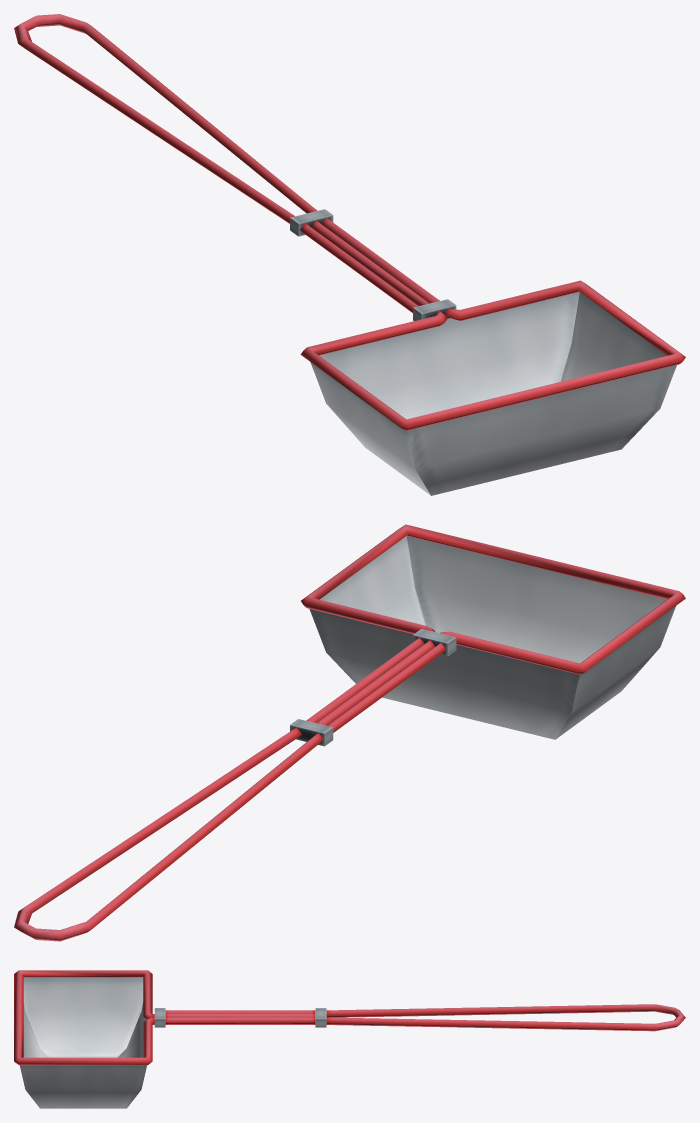
Rendered from jsf_ScoopNet_02a.fbx.
The picture shows the model from 3 angles, top to bottom: view 1: azimuth 30°, elevation 25°; view 2: azimuth 150°, elevation 25°; view 3: azimuth 270°, elevation 25°; orthographic projection. The views are drawn at different scales.
Parts seen in each view (by area): view 1: jsf_ScoopNet_02a; view 2: jsf_ScoopNet_02a; view 3: jsf_ScoopNet_02a.
Part boxes in pixels (x1,y1,x2,y2): jsf_ScoopNet_02a: (14,14,685,495); jsf_ScoopNet_02a: (14,524,685,941); jsf_ScoopNet_02a: (14,970,685,1108).
Bounding box in the file's own units: 8.37 × 3.11 × 26.
